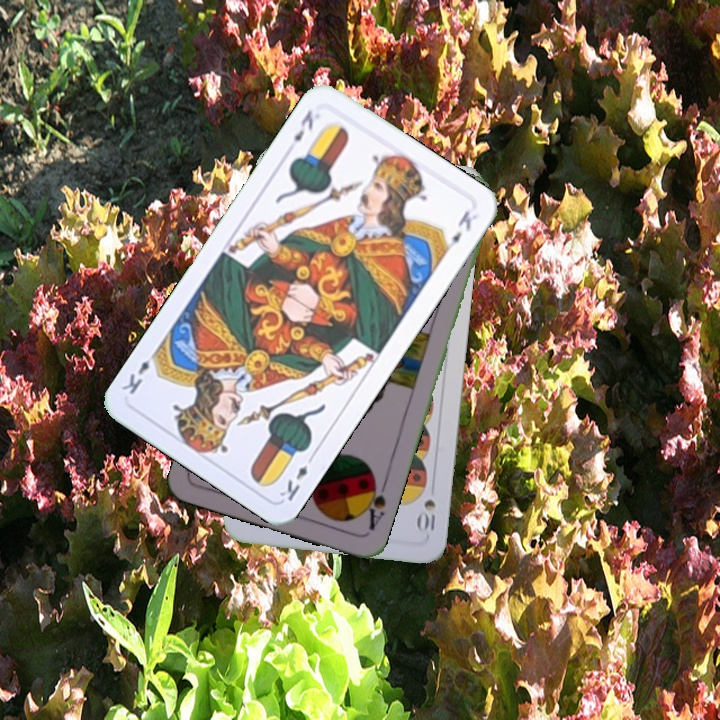EK: (275, 449, 318, 504), (289, 105, 316, 145)
S10: (414, 495, 438, 535)
SA: (358, 473, 390, 533)
